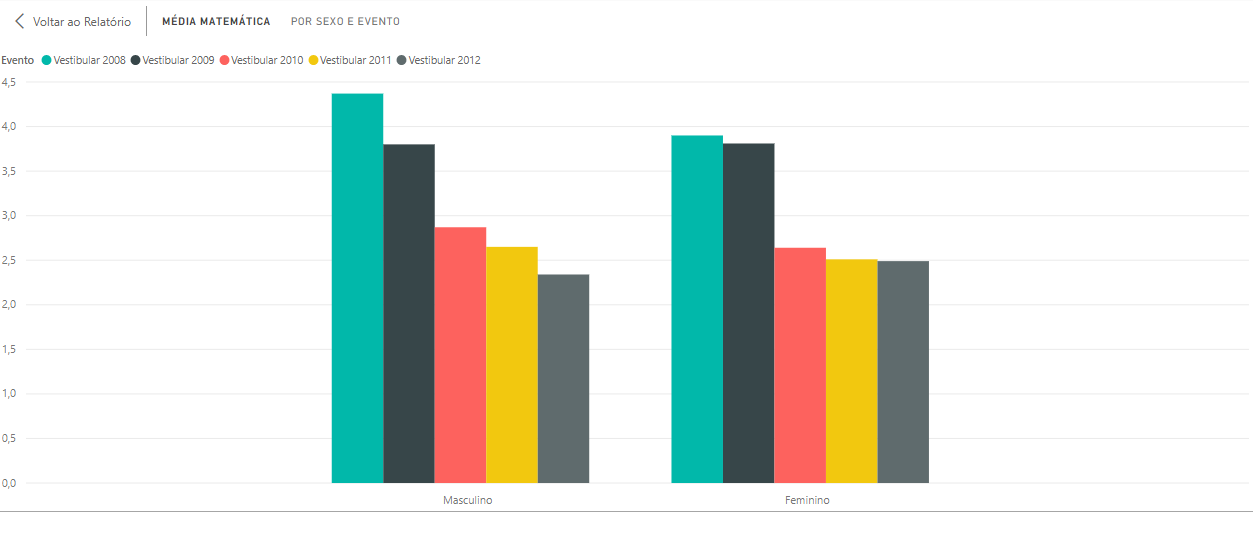

The dashboard page shown, as its layout file describes it:
{"tool":"powerbi","page":{"name":"Matemática - Sexo X Evento","canvas":[1280,720],"ordinal":3},"visuals":[{"type":"clusteredColumnChart","fields":{"Y":["Sum(public desempenho_fato.Média Matemática)"],"Category":["public desempenho_fato.Sexo"],"Series":["public desempenho_fato.Evento"]},"box":[9.9,19.7,1268.7,698.9],"z":1}]}

Visuals, with their boxes on the page's 1280x720 design canvas (x1, y1, x2, y2). These are canvas units, not pixel positions in the 1253x546 screenshot, which may show the page scaled, cropped or inside an application window:
clusteredColumnChart - Sum(public desempenho_fato.Média Matemática) x public desempenho_fato.Sexo: detection(10, 20, 1279, 719)
